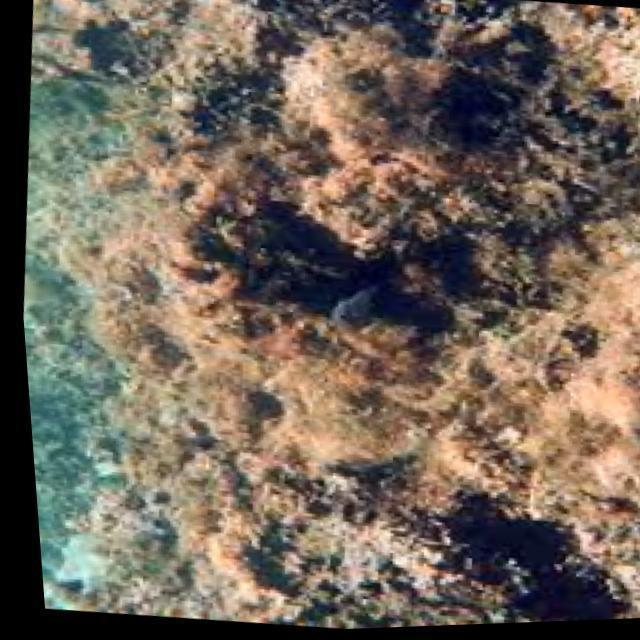Dead Coral: (68, 169, 525, 573), (237, 0, 640, 307), (258, 505, 567, 634)
